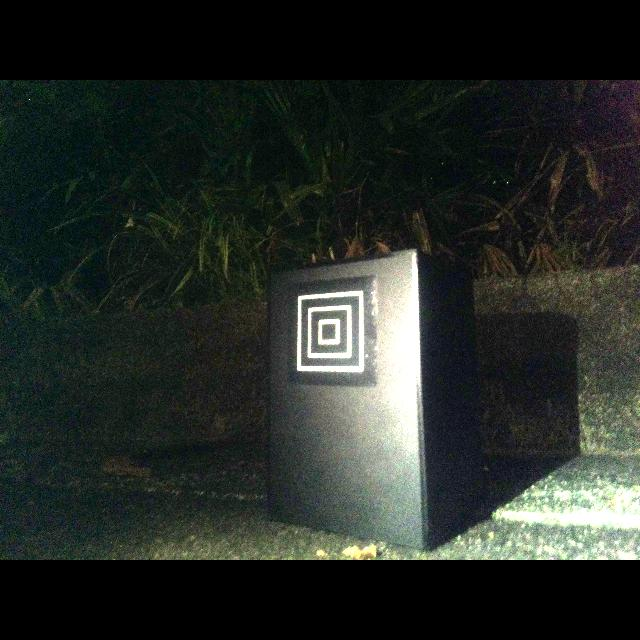BULLSEYE: (297, 289, 364, 373)
